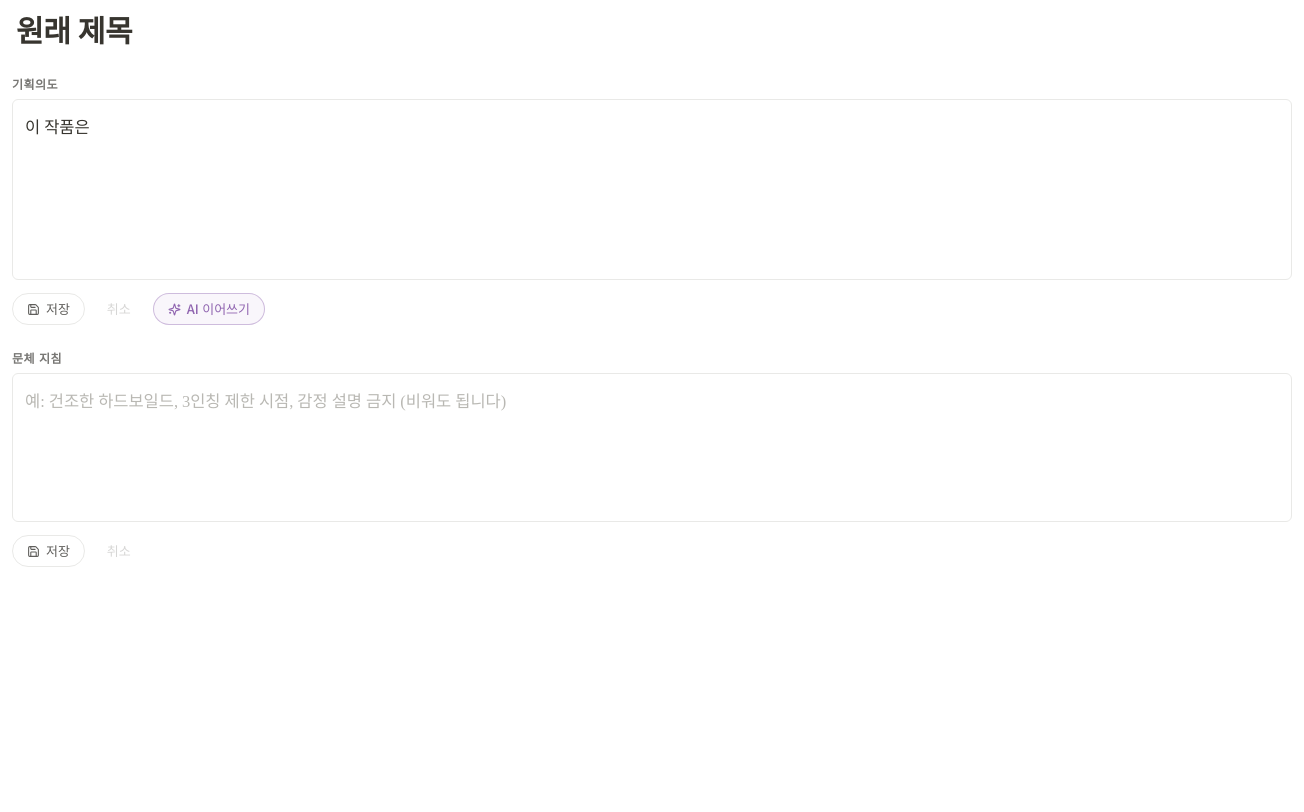
Test: SynopsisEditor › AI 제안 "적용" 클릭 시 기획의도 끝에 이어붙이고 자동 저장하지 않는다
Expected: the text box labelled "기획의도" holds "이 작품은", [12,99,1292,280]
What coordinates should you click on to do the following:
click the button "AI 이어쓰기"
I would click on:
 (209, 309)
Its box is [153,293,265,325].
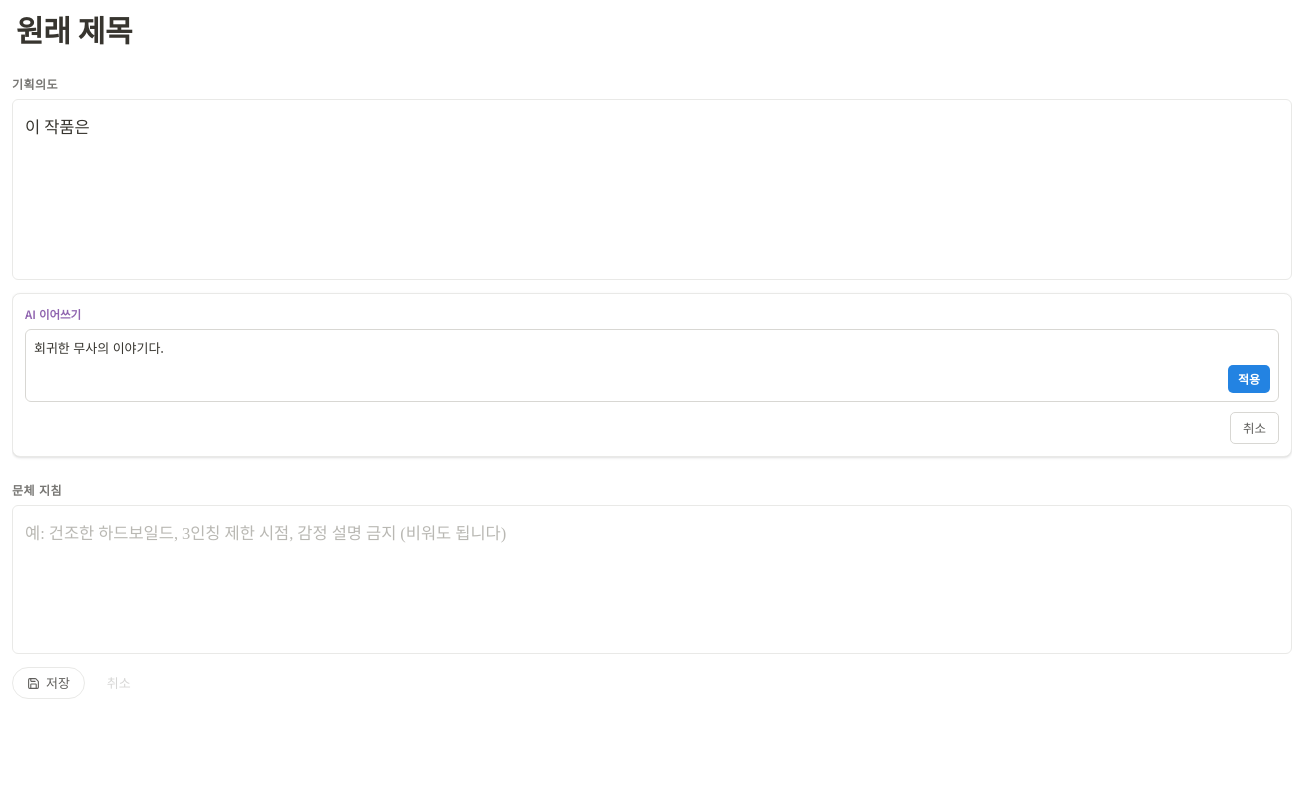
Expected: the button "적용" is shown
What coordinates should you click on to do the following:
click the button "적용"
I would click on:
 (1249, 379)
Its box is [1228,365,1270,393].
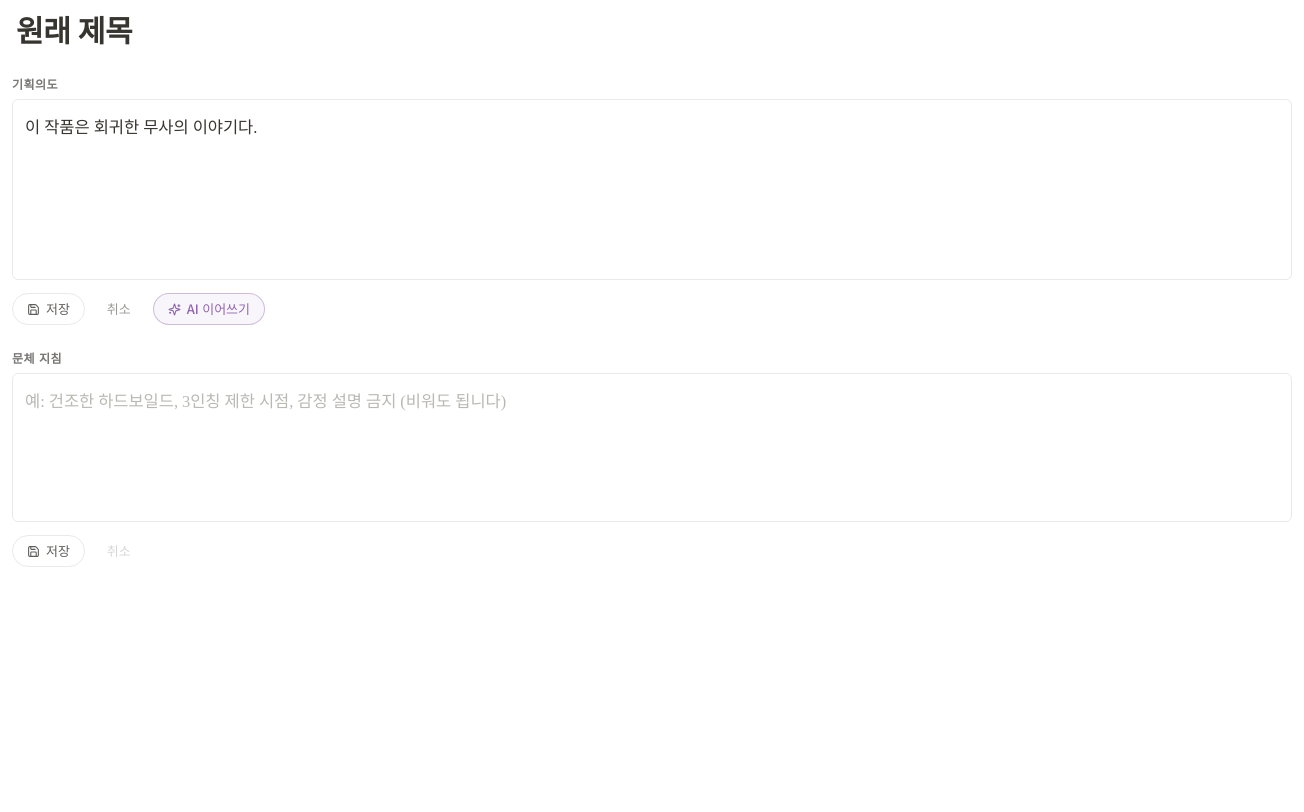
Expected: the text box labelled "기획의도" holds "이 작품은 회귀한 무사의 이야기다.", [12,99,1292,280]
